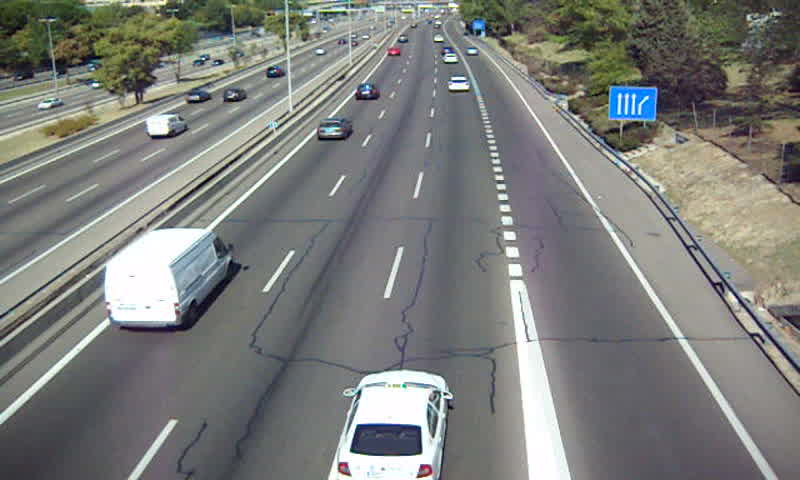car: (335, 371, 449, 480), (315, 119, 352, 141), (354, 82, 379, 102), (446, 76, 472, 93)
van: (105, 228, 232, 329)
